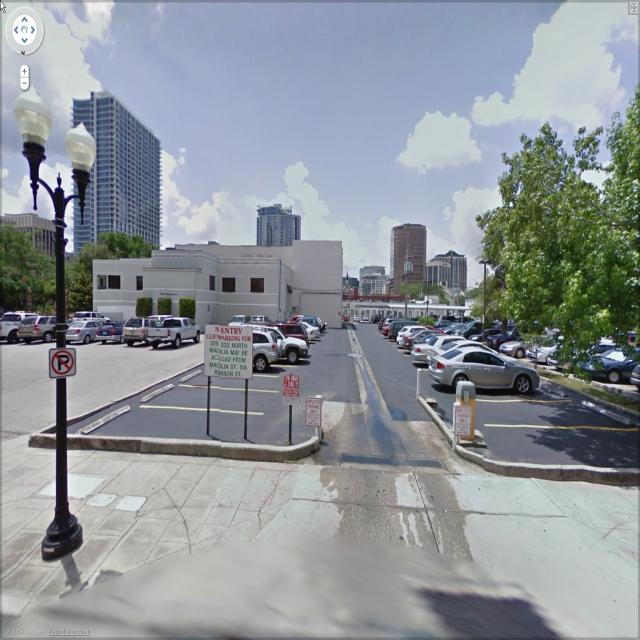b_1: (84, 242, 348, 348), (64, 105, 170, 242), (387, 219, 431, 312), (256, 192, 308, 243), (436, 248, 470, 294), (355, 272, 397, 300), (428, 259, 452, 287)
b_2: (0, 202, 60, 294)
